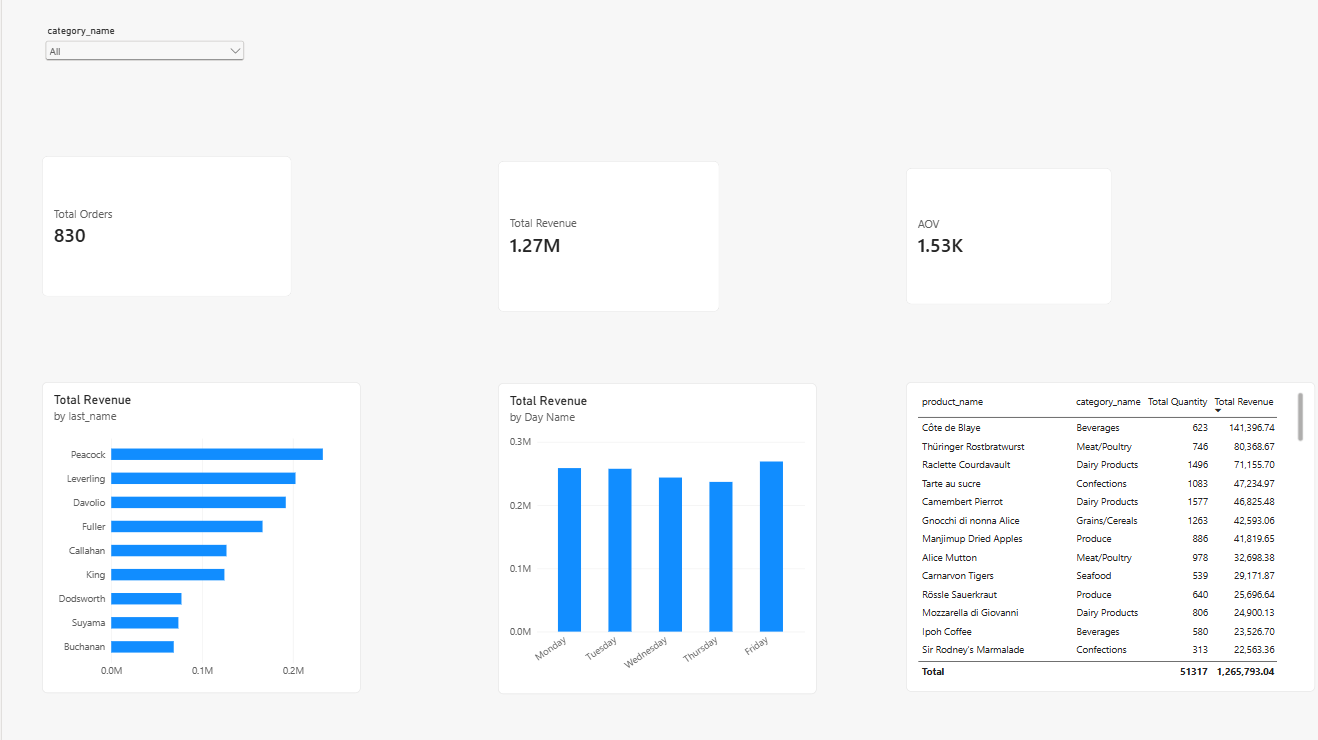

Layout of this report page (visuals, bound fields, positions):
{"tool":"powerbi","page":{"name":"Sales Analysis","canvas":[1920,1080],"ordinal":1},"visuals":[{"type":"clusteredBarChart","fields":{"Category":["public employees.last_name"],"Y":["_Measures.Total Revenue"]},"box":[58.4,557.3,465.4,453.7],"z":0},{"type":"clusteredColumnChart","fields":{"Category":["public orders.Day Name"],"Y":["_Measures.Total Revenue"]},"box":[723.6,558.8,465.4,453.7],"z":1000},{"type":"tableEx","fields":{"Values":["public products.product_name","public categories.category_name","_Measures.Total Quantity","_Measures.Total Revenue"]},"box":[1318.9,557.3,596.7,452.3],"z":2000},{"type":"slicer","fields":{"Values":["public categories.category_name"]},"box":[58.4,36.5,300,150],"z":3000},{"type":"cardVisual","fields":{"Data":["public orders.Total Orders"]},"box":[58.4,227.6,364.7,205.7],"z":4000},{"type":"cardVisual","fields":{"Data":["public order_details.Total Revenue"]},"box":[723.6,234.9,323.9,220.3],"z":5000},{"type":"cardVisual","fields":{"Data":["_Measures.AOV"]},"box":[1318.9,245.1,300.5,199.9],"z":6000}]}

Visuals, with their boxes in screenshot pixels (x1, y1, x2, y2), scaled from the page's 1920x1080 canvas onto the 1318x740 screenshot:
clusteredBarChart - public employees.last_name x _Measures.Total Revenue: (40, 382, 360, 693)
clusteredColumnChart - public orders.Day Name x _Measures.Total Revenue: (497, 383, 816, 694)
tableEx - public products.product_name x public categories.category_name: (905, 382, 1315, 692)
slicer - public categories.category_name: (40, 25, 246, 128)
cardVisual - public orders.Total Orders: (40, 156, 290, 297)
cardVisual - public order_details.Total Revenue: (497, 161, 719, 312)
cardVisual - _Measures.AOV: (905, 168, 1112, 305)
